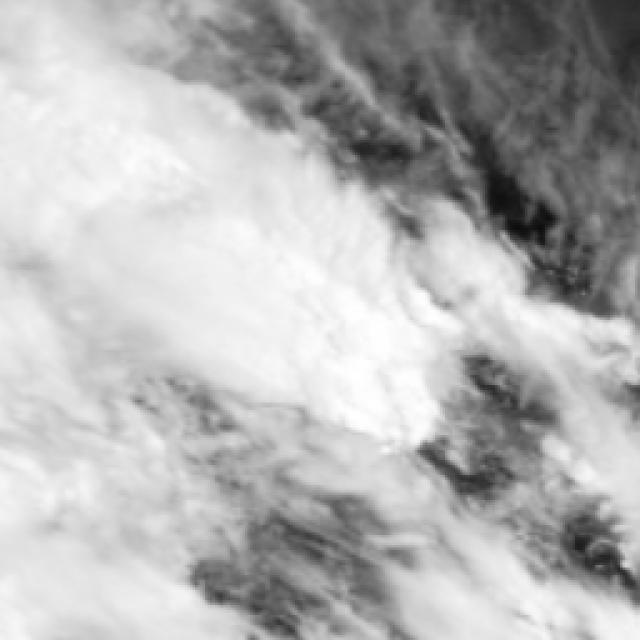CB: (0, 390, 133, 640), (197, 198, 359, 384), (21, 93, 185, 272)
